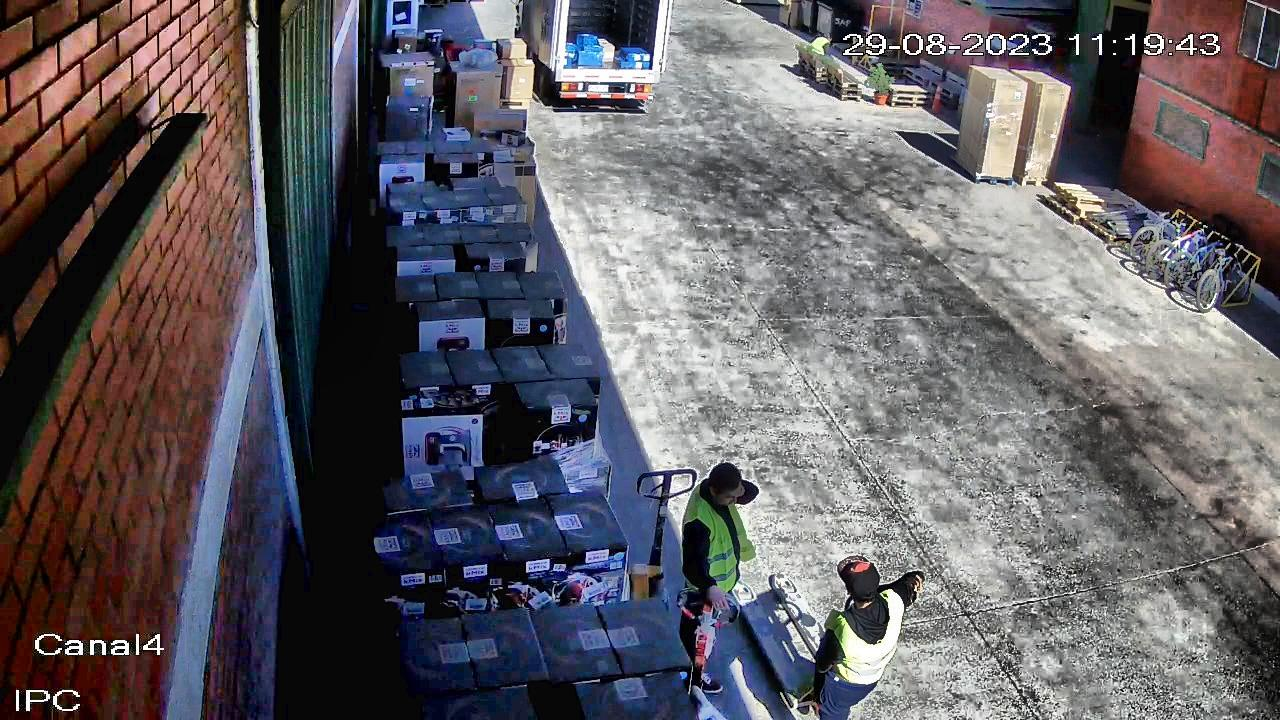con-chaleco: (681, 483, 762, 604), (824, 595, 911, 687), (808, 36, 832, 56)
persona: (673, 452, 766, 699), (805, 532, 922, 720), (807, 28, 836, 71)
sin-casco: (699, 457, 758, 514), (834, 549, 888, 607), (821, 31, 836, 43)
